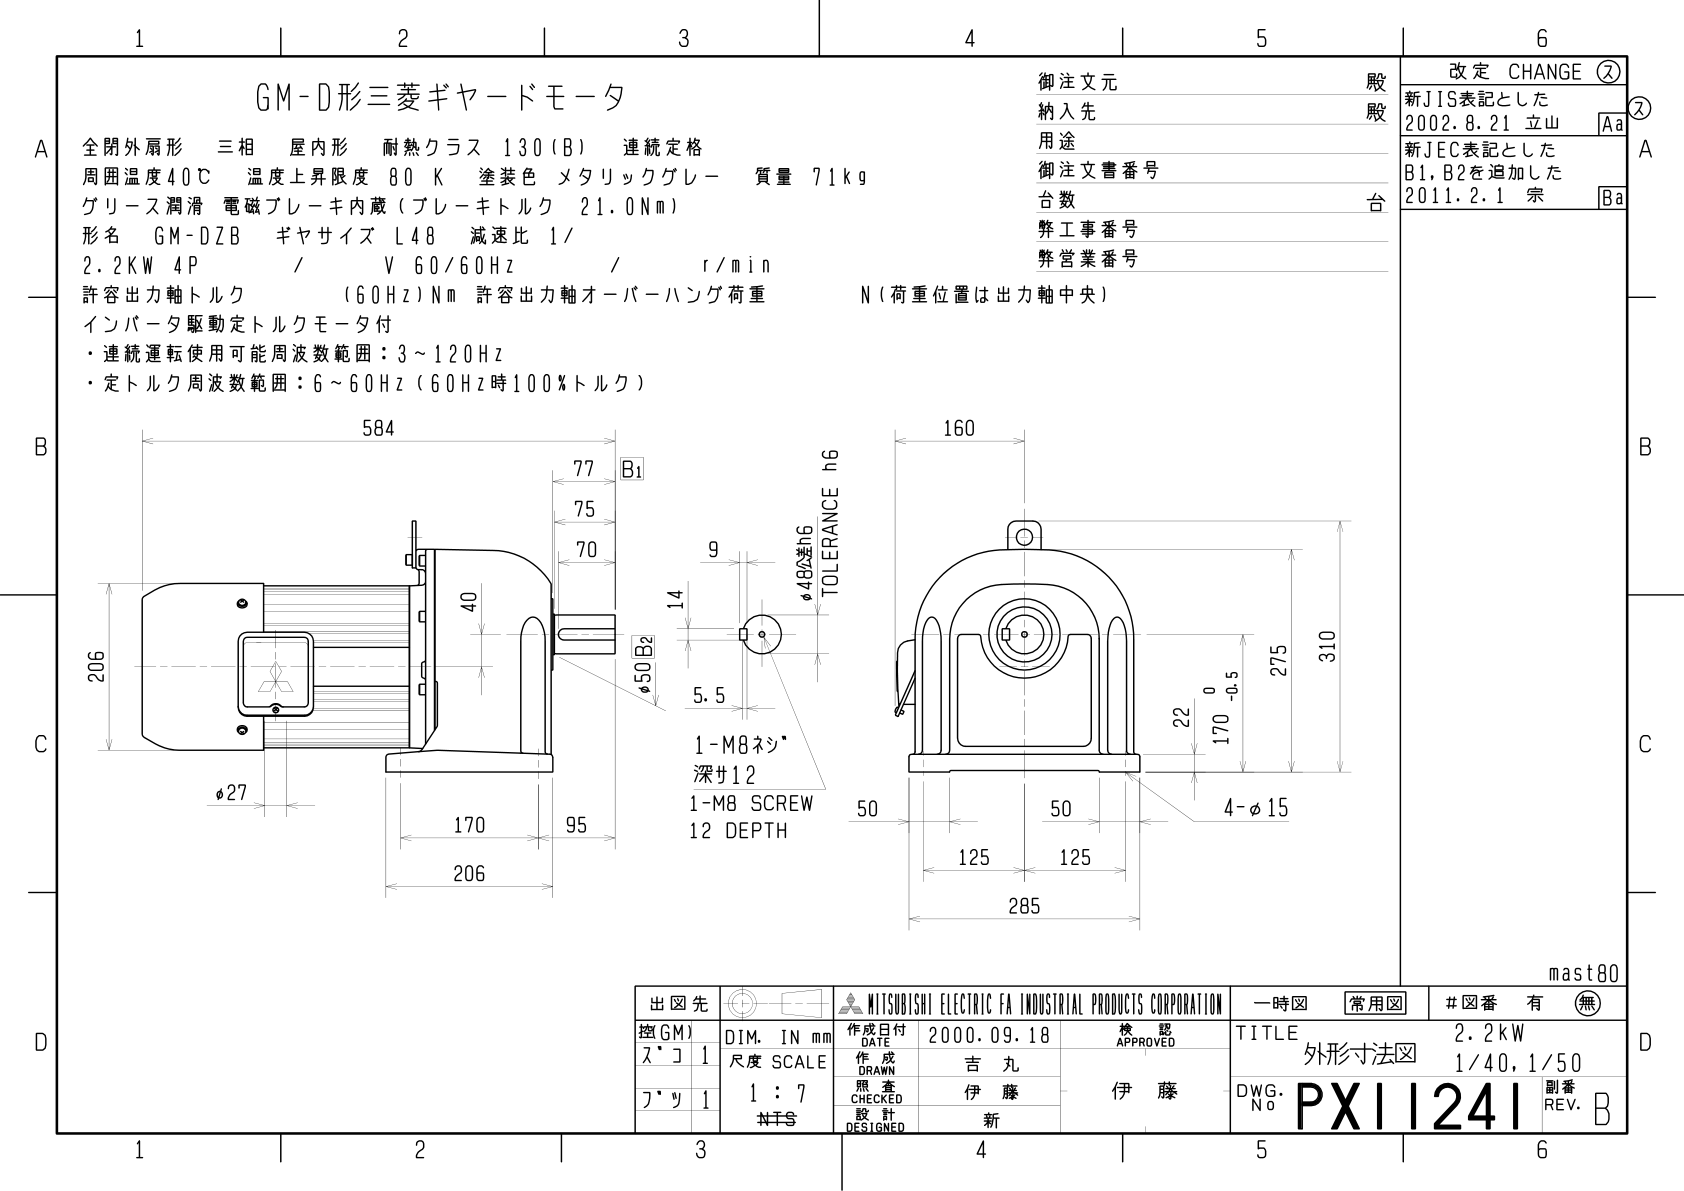GM_D_インバータ屋内_三相_脚: (75, 409, 1367, 951)
